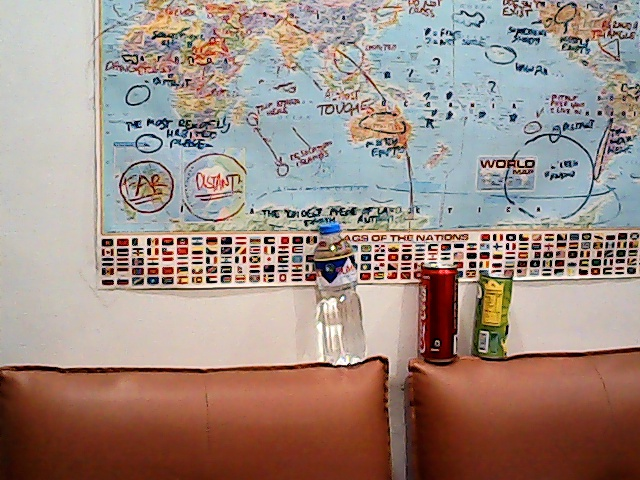Cola: (412, 257, 466, 369)
Pine Juice: (467, 268, 518, 369)
Summit Water: (308, 222, 371, 368)
